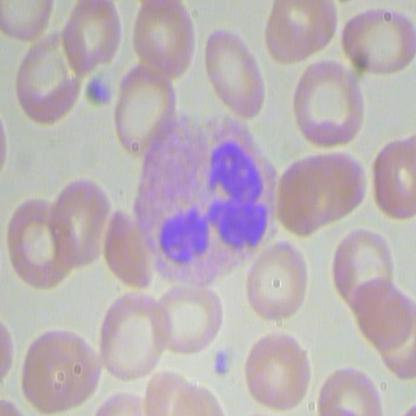Platelets: (83, 68, 119, 111), (208, 345, 234, 384)
RBC: (276, 141, 378, 241), (42, 165, 118, 276), (16, 319, 104, 413), (291, 58, 377, 153), (13, 24, 92, 127), (88, 285, 168, 383), (111, 57, 181, 160), (6, 191, 76, 292), (200, 20, 266, 126), (240, 331, 318, 413), (149, 279, 228, 359), (246, 241, 318, 324), (332, 224, 395, 311), (341, 7, 415, 81), (368, 132, 415, 230)
WBC: (120, 110, 291, 293)
